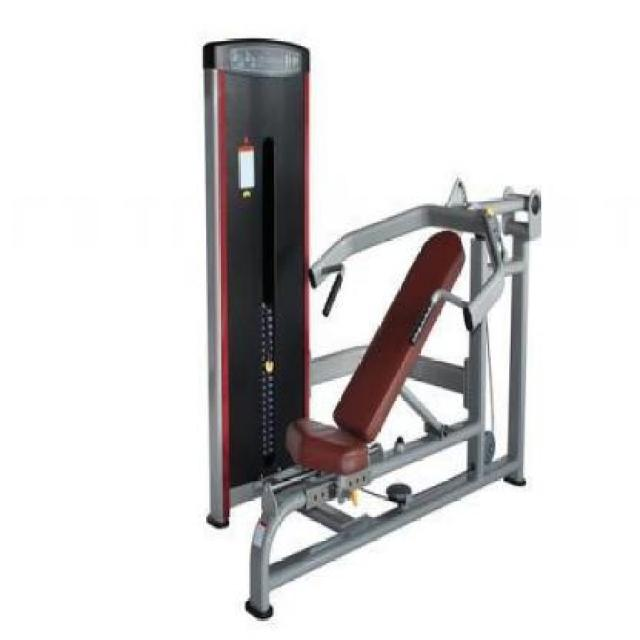shoulder press machine: (200, 34, 543, 618)
